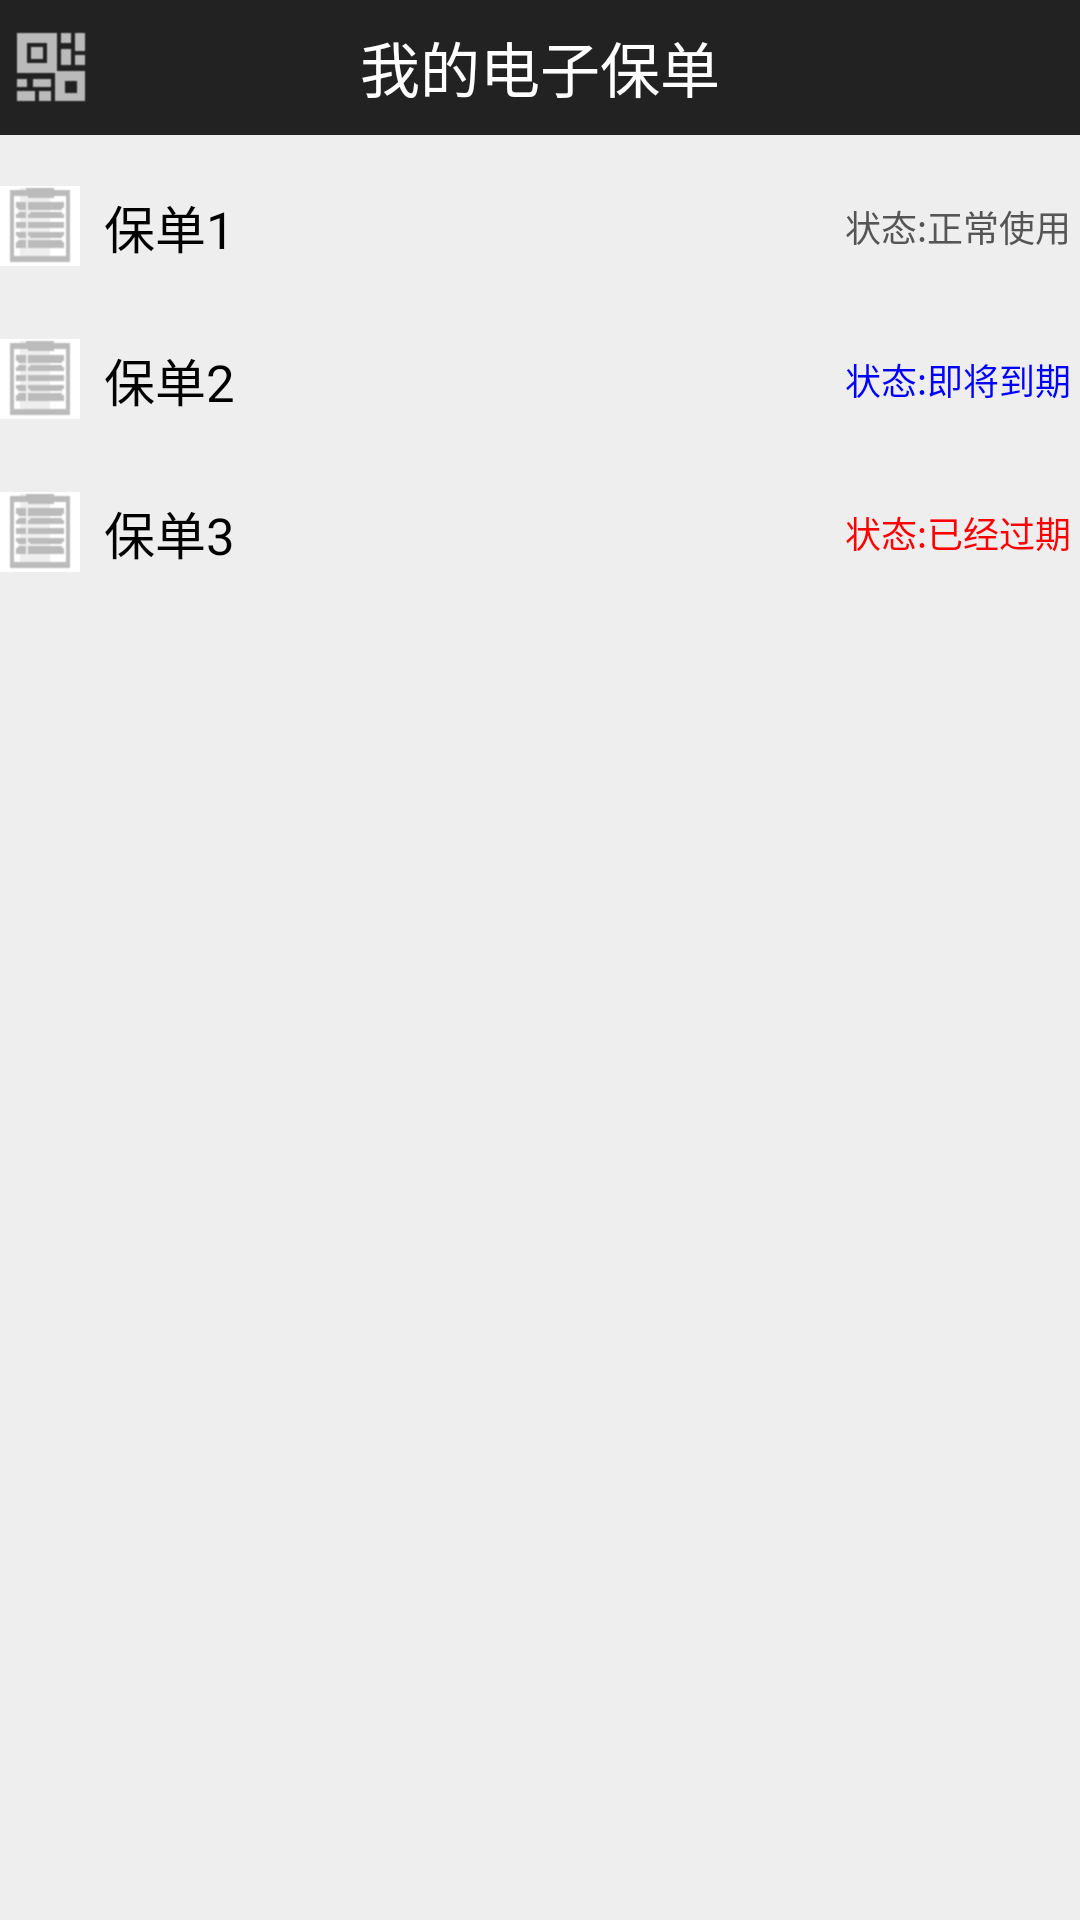

Locate icon controls on the screen. Image size 1080×1920, boxes as bbox(x1, y1, x2, y2).
warrant item: bbox(10, 188, 70, 262), bbox(10, 341, 70, 415), bbox(10, 494, 70, 568)
